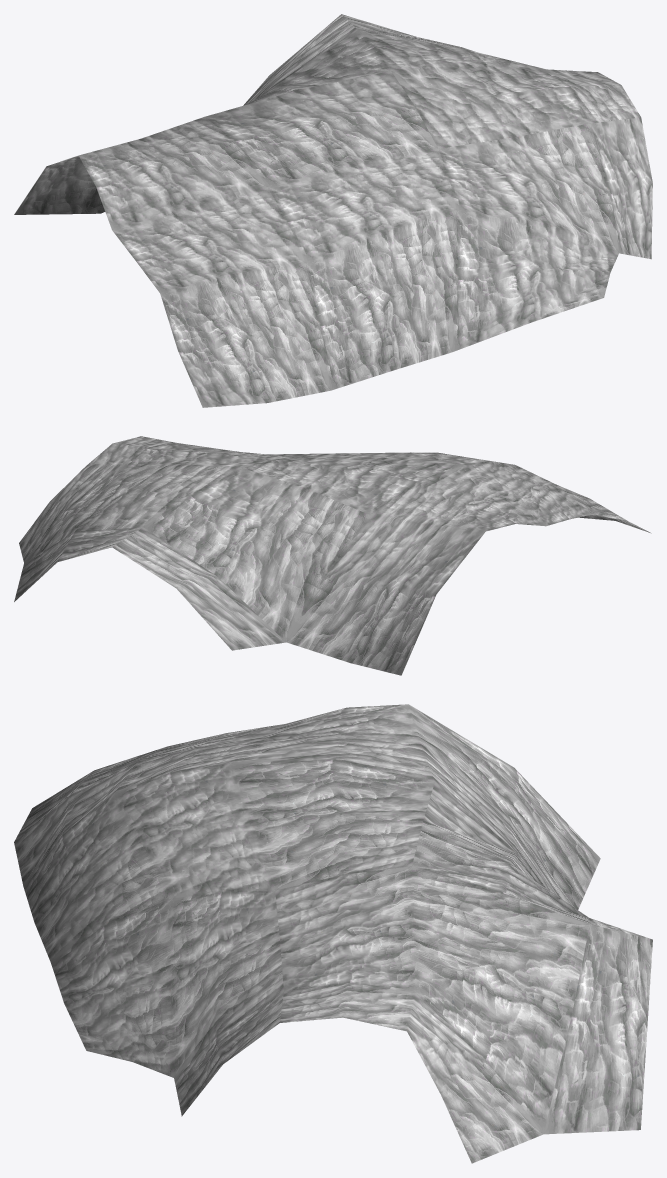
Rendered from SWORDLIGHT20_PS-AREA03_51.fbx.
The picture shows the model from 3 angles, top to bottom: view 1: azimuth 30°, elevation 25°; view 2: azimuth 150°, elevation 25°; view 3: azimuth 270°, elevation 25°; orthographic projection. The views are drawn at different scales.
Parts seen in each view (by area): view 1: SWORDLIGHT20_PS-AREA03_51; view 2: SWORDLIGHT20_PS-AREA03_51; view 3: SWORDLIGHT20_PS-AREA03_51.
Boxes of the visible parts, left/top/right/bottom form: SWORDLIGHT20_PS-AREA03_51: left=14, top=14, right=652, bottom=407; SWORDLIGHT20_PS-AREA03_51: left=14, top=436, right=651, bottom=675; SWORDLIGHT20_PS-AREA03_51: left=14, top=704, right=652, bottom=1163.
Size of the model in its own units: 350554 by 82591 by 282214.
1 material, 1 textured.
